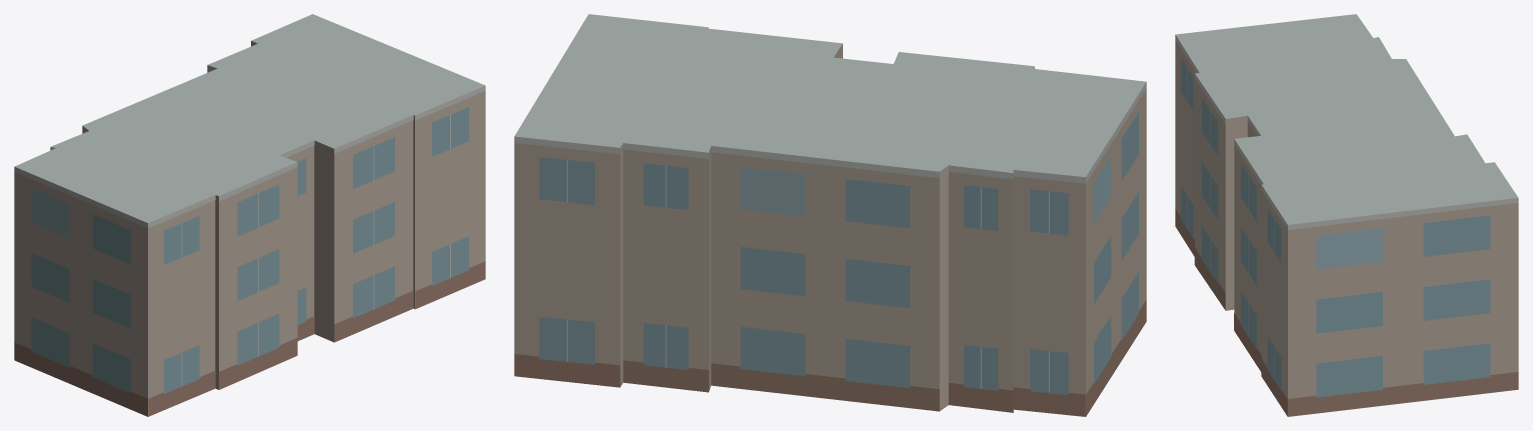
Rendered from survey-upis-32501161.glb.
The picture shows the model from 3 angles, left to right: view 1: azimuth 30°, elevation 25°; view 2: azimuth 150°, elevation 25°; view 3: azimuth 270°, elevation 25°; orthographic projection. The views are drawn at different scales.
Parts seen in each view (by area): view 1: survey-upis-32501161.tmp; view 2: survey-upis-32501161.tmp; view 3: survey-upis-32501161.tmp.
Part boxes in pixels (left/top/right/bottom): survey-upis-32501161.tmp: left=14, top=14, right=485, bottom=416; survey-upis-32501161.tmp: left=514, top=14, right=1146, bottom=416; survey-upis-32501161.tmp: left=1175, top=14, right=1518, bottom=416.
Size of the model in its own units: 21.59 by 9.15 by 14.84.
